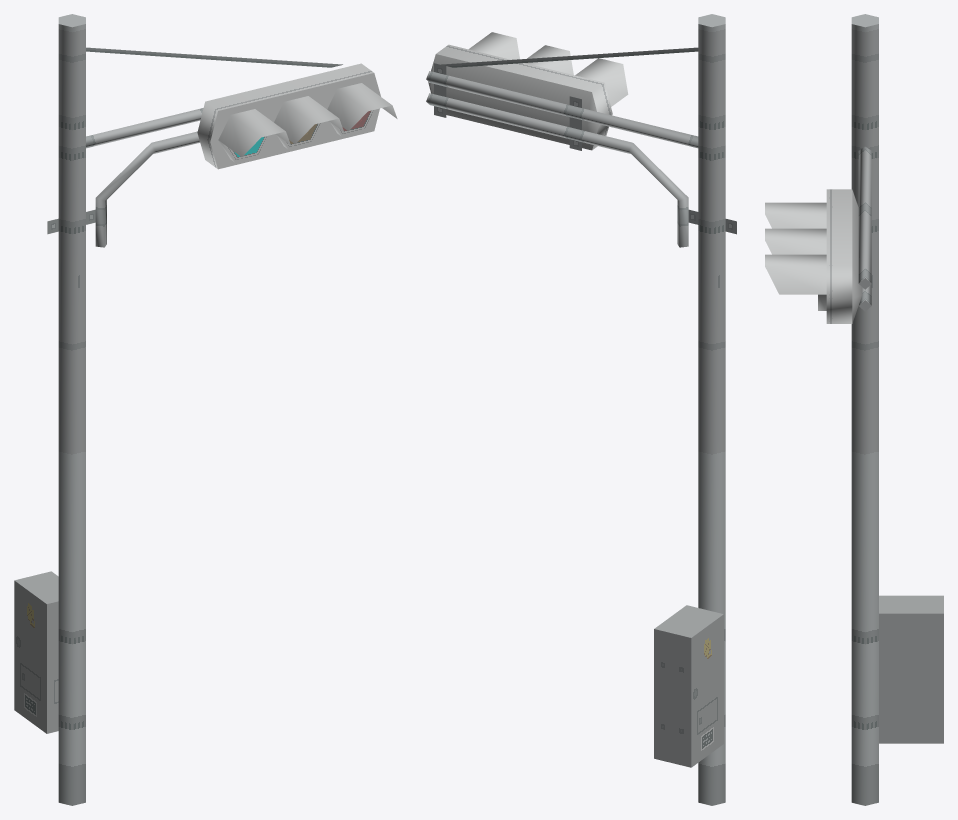
File: 03a1_Traffic_Signal.glb
3 views of the same model, side by side, from view 1: azimuth 30°, elevation 25°; view 2: azimuth 150°, elevation 25°; view 3: azimuth 270°, elevation 25° (orthographic).
Parts seen in each view (by area): view 1: part_0, part_1; view 2: part_0; view 3: part_0.
Boxes of the visible parts, x1,y1,x2,y2 form: part_0: [14, 14, 397, 805]; part_1: [223, 109, 376, 162]; part_0: [426, 14, 736, 805]; part_0: [765, 14, 943, 805].
Size of the model in its own units: 2.54 by 6 by 1.25.
2 materials, 2 textured.
